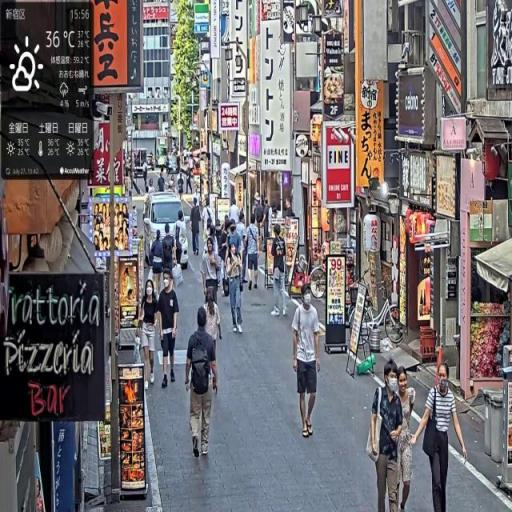person: (413, 360, 471, 512), (368, 358, 407, 512), (185, 306, 220, 462), (292, 283, 322, 441), (158, 271, 181, 390), (138, 279, 161, 388), (224, 228, 246, 334), (270, 225, 287, 320), (246, 217, 262, 292), (151, 230, 166, 301), (191, 197, 202, 259)
